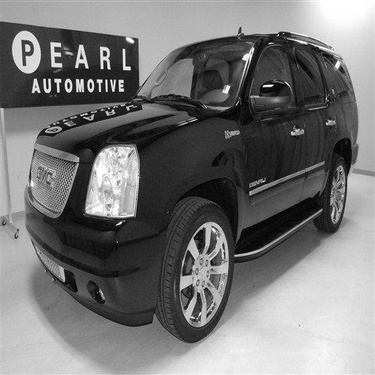car: (12, 16, 359, 325)
